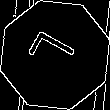L_SE: (26, 29, 84, 81)
